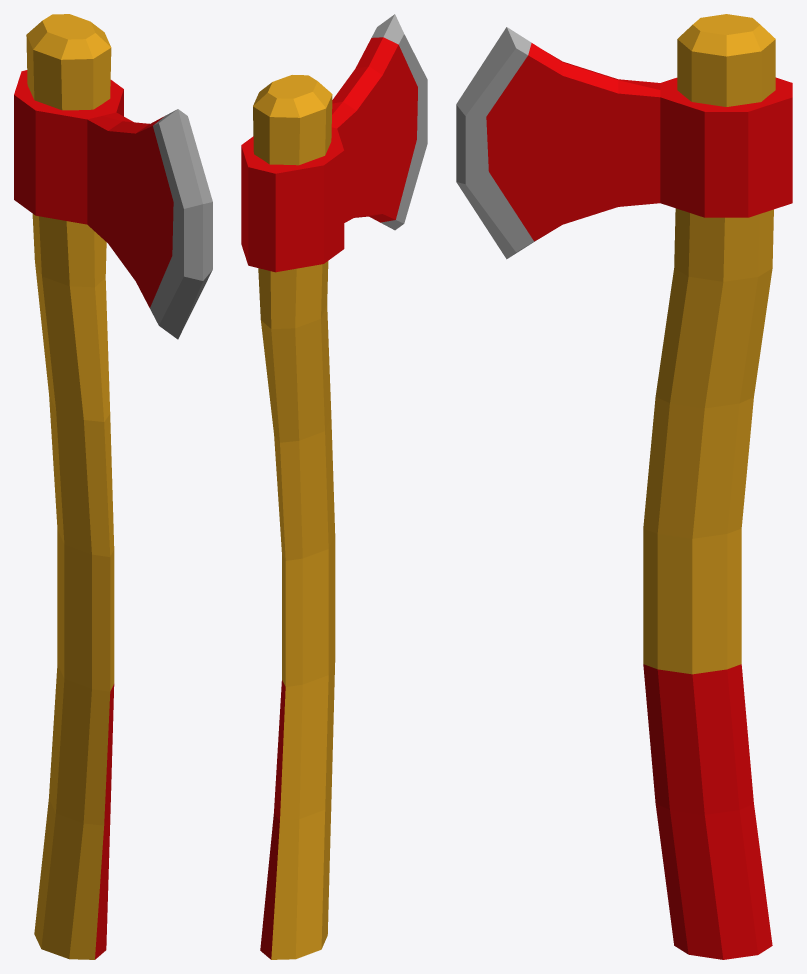
Rendered from axt.fbx.
3 views of the same model, side by side, from view 1: azimuth 30°, elevation 25°; view 2: azimuth 150°, elevation 25°; view 3: azimuth 270°, elevation 25° (orthographic). The views are drawn at different scales.
Visible parts, largest first — view 1: Cylinder, Cube; view 2: Cylinder, Cube; view 3: Cylinder, Cube.
Boxes of the visible parts, left/top/right/bottom form: Cylinder: left=26, top=14, right=114, bottom=959; Cube: left=14, top=70, right=212, bottom=339; Cylinder: left=253, top=75, right=335, bottom=959; Cube: left=241, top=14, right=427, bottom=272; Cylinder: left=643, top=14, right=775, bottom=959; Cube: left=456, top=27, right=792, bottom=259.
Bounding box in the file's own units: 155 × 1535 × 508.
